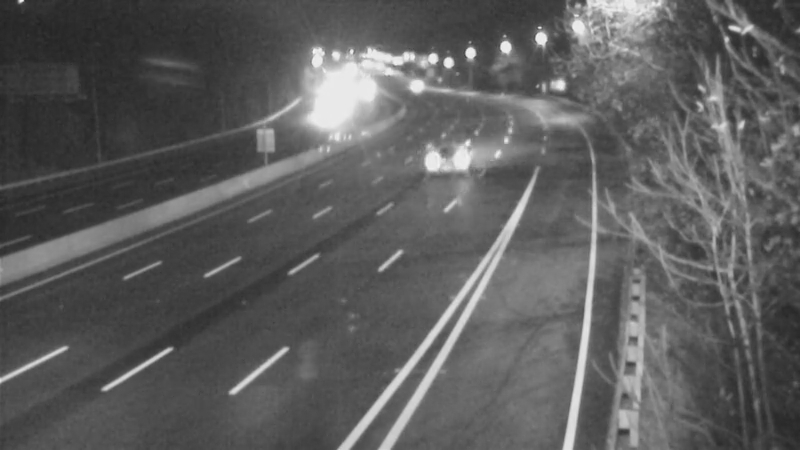vehicle: (387, 60, 437, 110), (424, 123, 474, 173), (294, 91, 344, 141)
